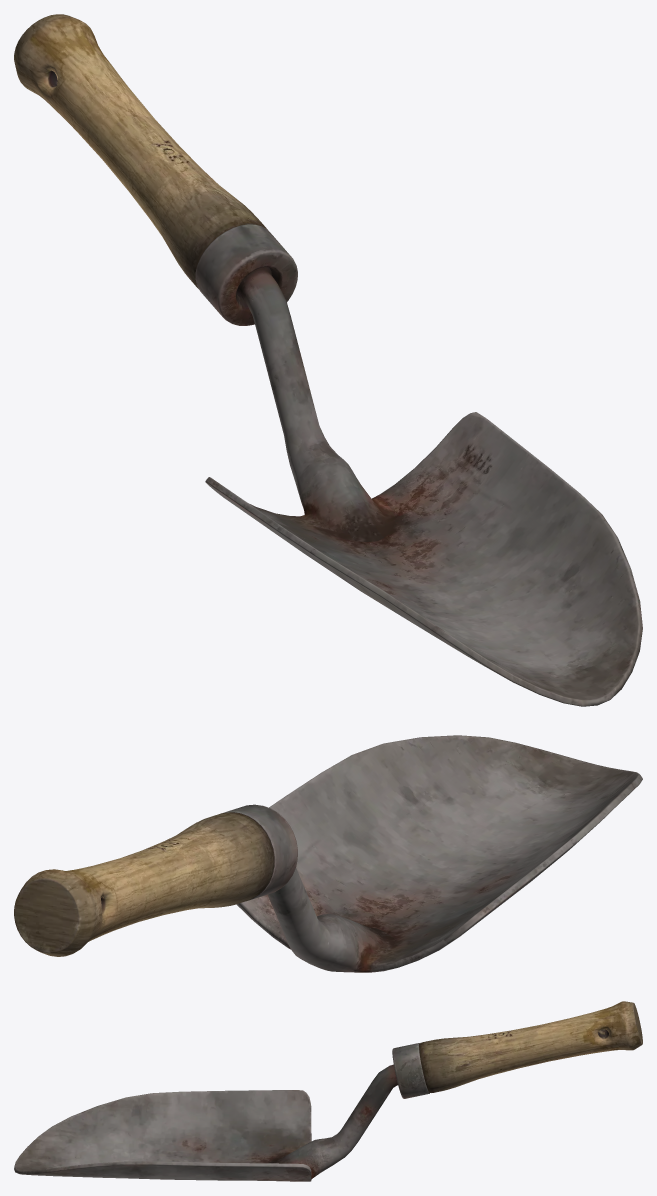
Rendered from trowel_01.glb.
The picture shows the model from 3 angles, top to bottom: view 1: azimuth 30°, elevation 25°; view 2: azimuth 150°, elevation 25°; view 3: azimuth 270°, elevation 25°; orthographic projection. The views are drawn at different scales.
Visible parts, largest first — view 1: trowel_01; view 2: trowel_01; view 3: trowel_01.
Part boxes in pixels (x1,y1,x2,y2): trowel_01: (14, 14, 642, 706); trowel_01: (14, 735, 642, 972); trowel_01: (14, 1001, 642, 1181).
Bounding box in the file's own units: 0.0991 × 0.1026 × 0.3468.
1 material, 1 textured.
